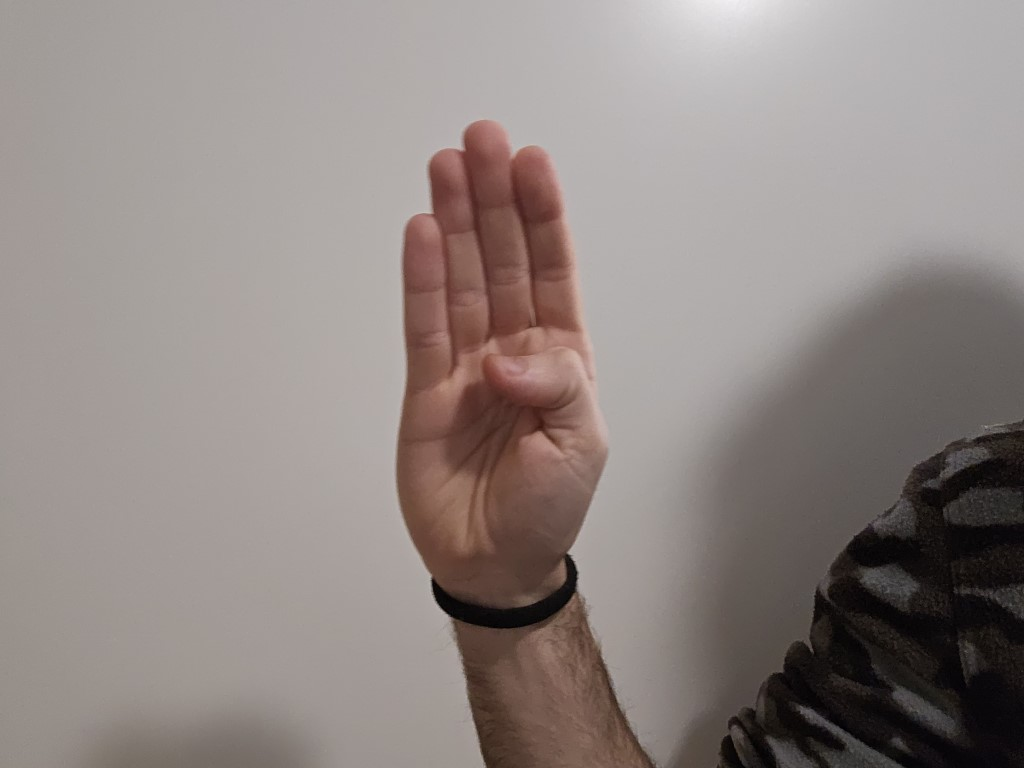b: (366, 114, 633, 589), (363, 123, 367, 126)
